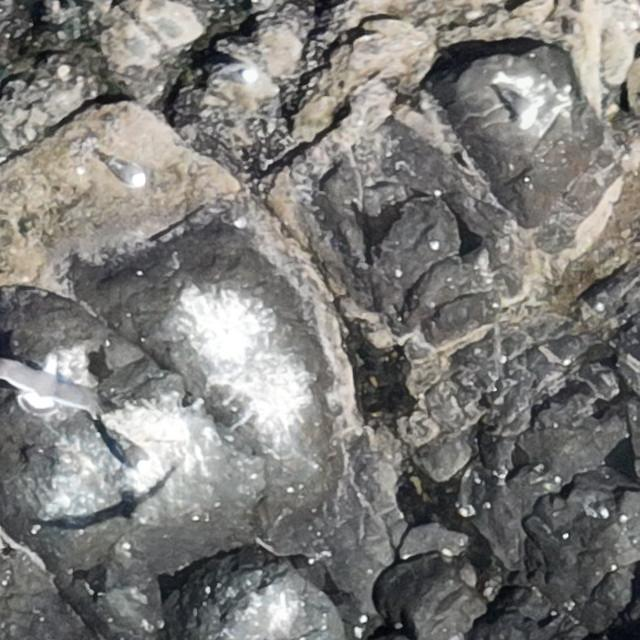F: (0, 353, 85, 417)
umineko: (496, 84, 538, 130), (113, 433, 153, 479), (221, 66, 261, 86), (114, 164, 144, 184)
